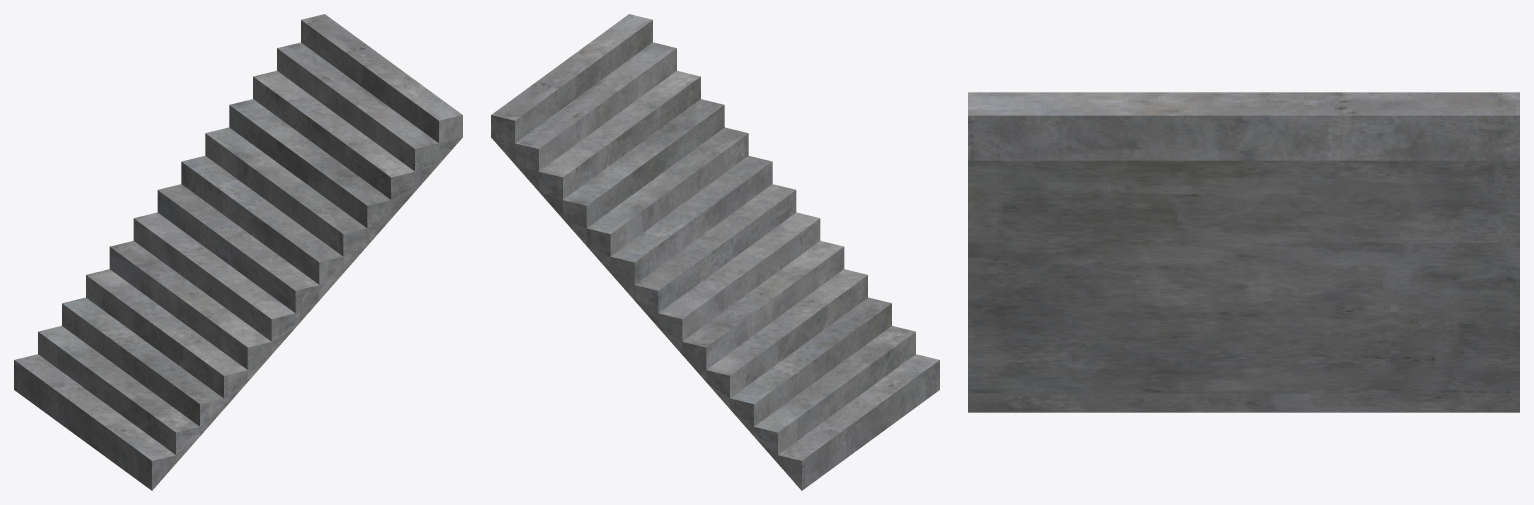
Rendered from stairs2.glb.
3 views of the same model, side by side, from view 1: azimuth 30°, elevation 25°; view 2: azimuth 150°, elevation 25°; view 3: azimuth 270°, elevation 25° (orthographic). The views are drawn at different scales.
Visible parts, largest first — view 1: stairs2; view 2: stairs2; view 3: stairs2.
Part boxes in pixels (box(x1,y1,x2,y2)): stairs2: box(14, 14, 462, 490); stairs2: box(491, 14, 939, 490); stairs2: box(968, 92, 1519, 412).
Bounding box in the file's own units: 2.6 × 2.4 × 2.
1 material, 1 textured.
